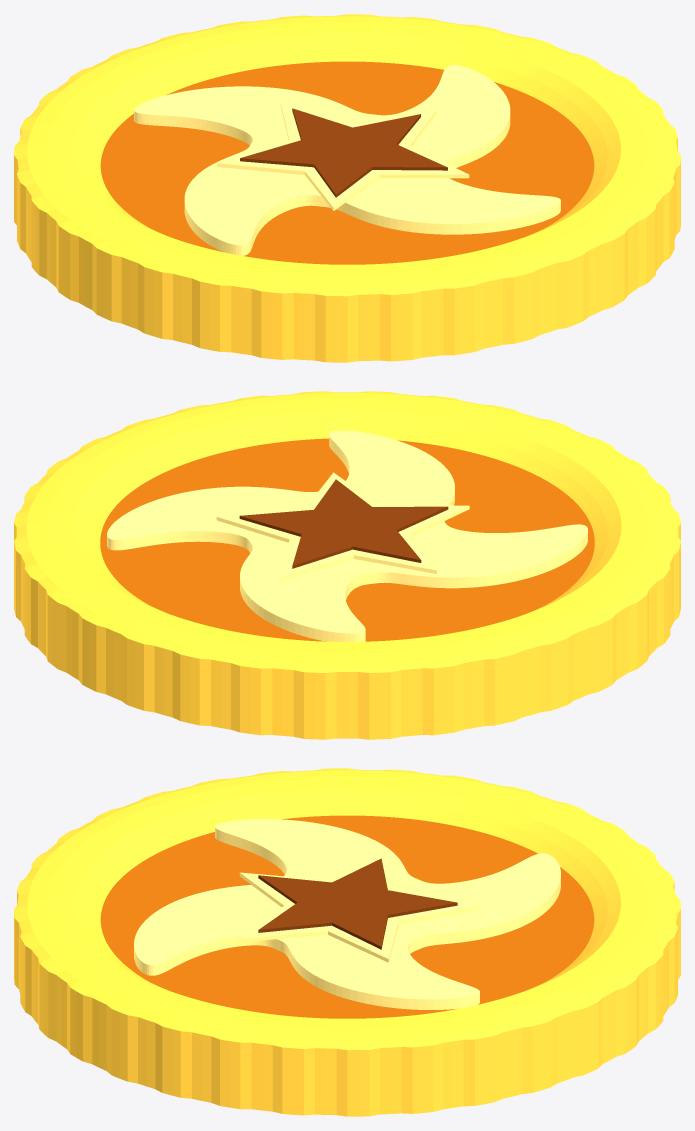
File: Coin.glb
3 renders of one model, top to bottom at view 1: azimuth 30°, elevation 25°; view 2: azimuth 150°, elevation 25°; view 3: azimuth 270°, elevation 25°, orthographic.
Parts seen in each view (by area): view 1: Coin; view 2: Coin; view 3: Coin.
Part boxes in pixels (x1,y1,x2,y2): Coin: (14, 14, 680, 362); Coin: (14, 391, 680, 739); Coin: (14, 768, 680, 1116).
Bounding box in the file's own units: 2 × 0.264 × 2.
